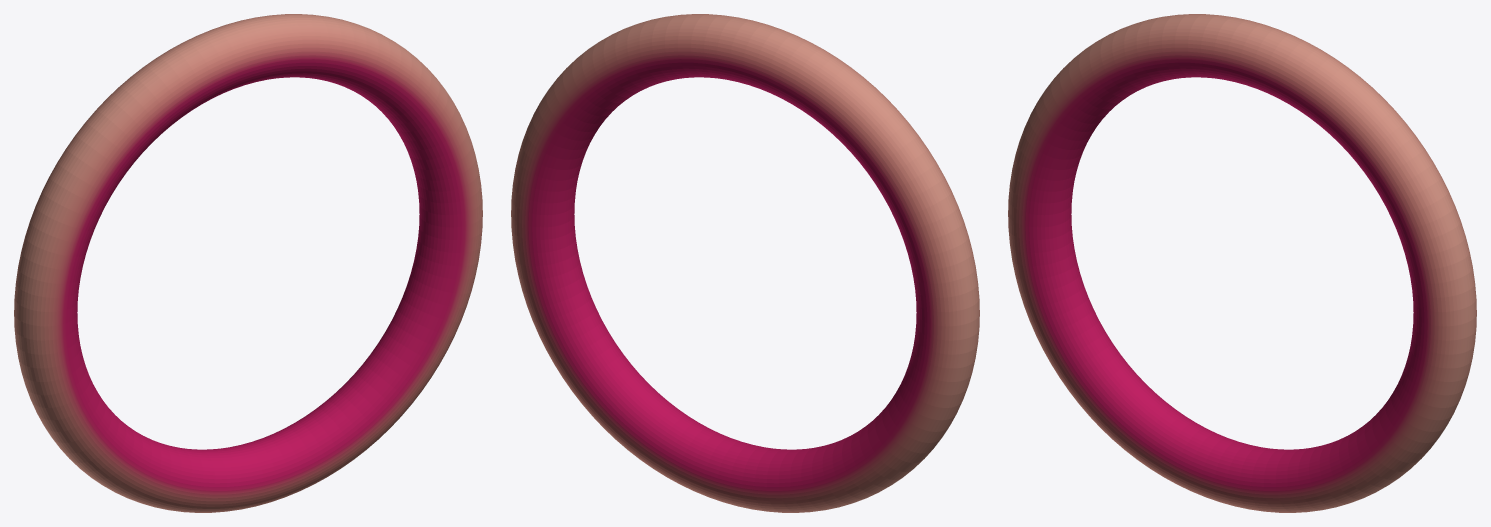
3 renders of one model, left to right at view 1: azimuth 30°, elevation 25°; view 2: azimuth 150°, elevation 25°; view 3: azimuth 330°, elevation 25°, orthographic.
Visible parts, largest first — view 1: world; view 2: world; view 3: world.
Part boxes in pixels (x1,y1,x2,y2): world: [14, 14, 482, 512]; world: [511, 14, 979, 512]; world: [1008, 14, 1476, 512].
Bounding box in the file's own units: 23.47 × 23.47 × 2.79.
